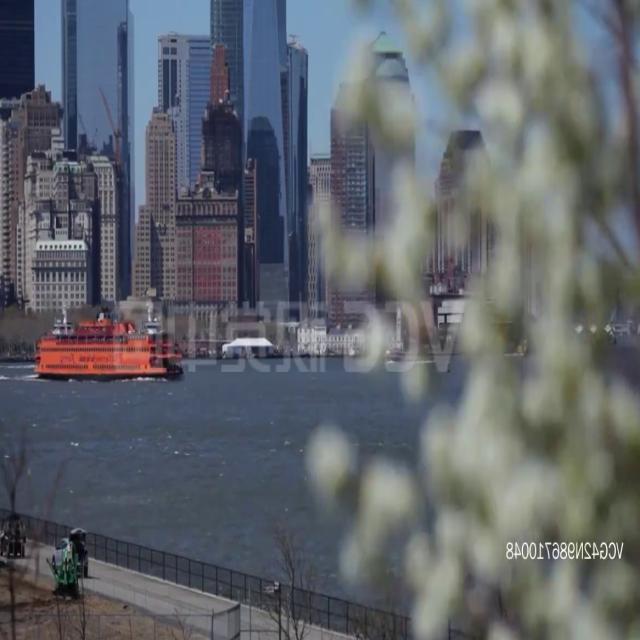passenger ship: (32, 307, 190, 386)
